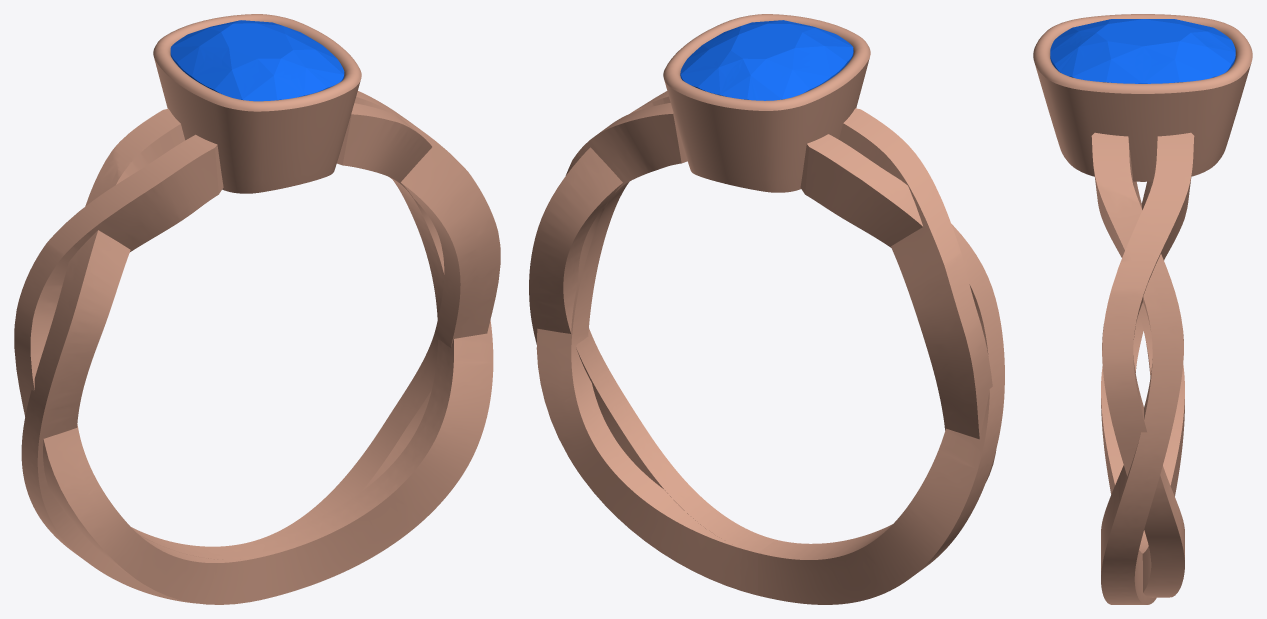
The model's file is bluesapphire-cushion-rosegold-bezelset-twist-nosidestones.glb.
3 views of the same model, side by side, from view 1: azimuth 30°, elevation 25°; view 2: azimuth 150°, elevation 25°; view 3: azimuth 270°, elevation 25° (orthographic).
Parts seen in each view (by area): view 1: metal.002, stone; view 2: metal.002, stone; view 3: metal.002, stone.
Boxes of the visible parts, left/top/right/bottom form: metal.002: left=14, top=14, right=500, bottom=604; stone: left=170, top=20, right=344, bottom=101; metal.002: left=529, top=14, right=1004, bottom=604; stone: left=680, top=20, right=853, bottom=100; metal.002: left=1033, top=14, right=1252, bottom=604; stone: left=1050, top=19, right=1235, bottom=83.
Bounding box in the file's own units: 19.97 × 23.14 × 8.45.
